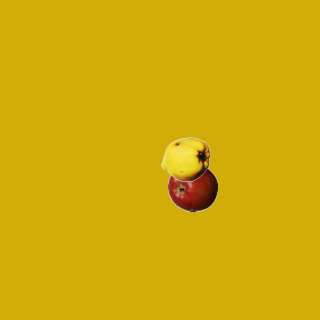Apple Braeburn: (167, 162, 217, 212)
Quince: (160, 134, 210, 184)
